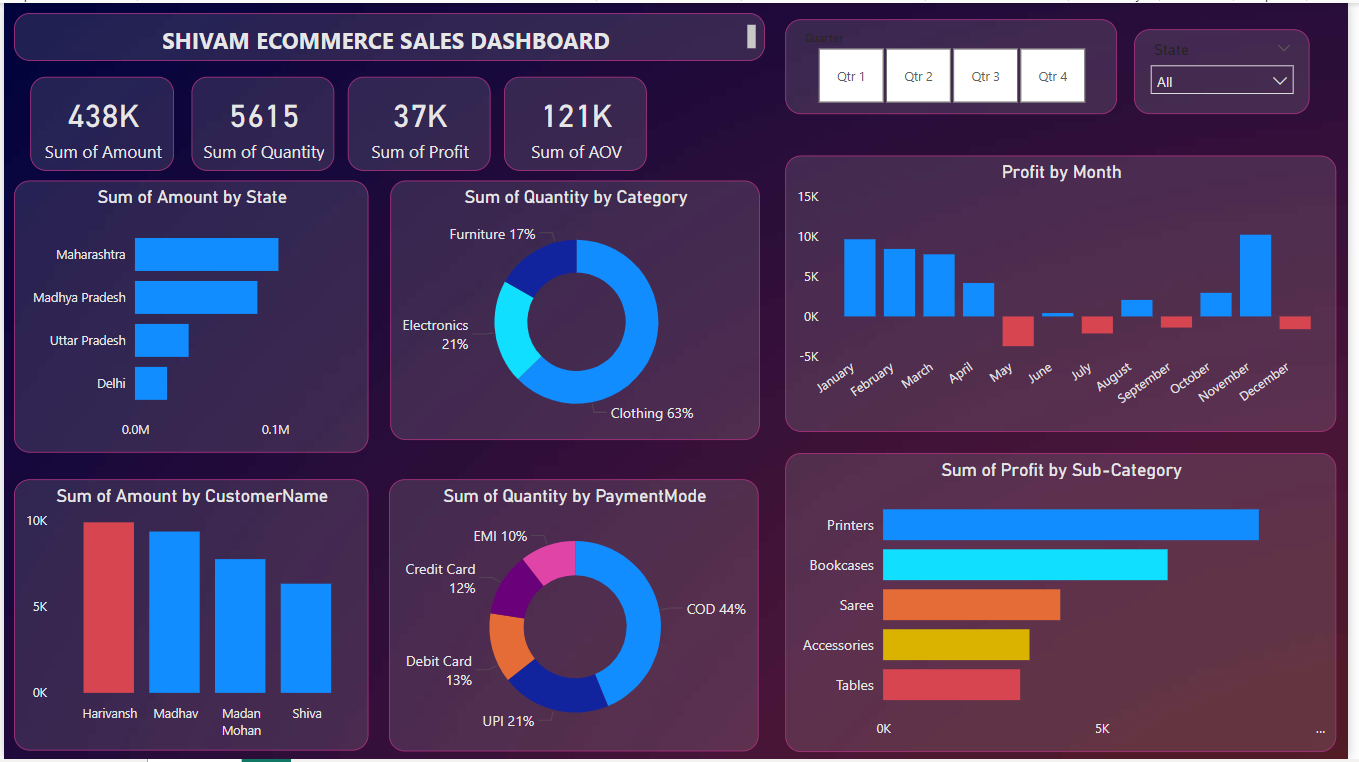

The page's visual inventory and layout, read from the dashboard file:
{"tool":"powerbi","page":{"name":"Page 1","canvas":[1280,720],"ordinal":0},"visuals":[{"type":"textbox","box":[9.5,9.5,715.2,45.2],"z":0},{"type":"columnChart","title":" Profit by Month","fields":{"Y":["Details.Profit"],"Category":["Orders.Order Date.Variation.Date Hierarchy.Month"]},"box":[743.8,145.2,524.8,263],"z":1000},{"type":"barChart","fields":{"Category":["Details.Sub-Category"],"Y":["Details.Profit"]},"box":[743.8,428.4,524.8,284.4],"z":2000},{"type":"donutChart","fields":{"Category":["Details.Category"],"Y":["Details.Quantity"]},"box":[367.7,169,352.3,247.5],"z":3000},{"type":"donutChart","fields":{"Y":["Details.Quantity"],"Category":["Details.PaymentMode"]},"box":[366.5,453.4,352.3,259.4],"z":4000},{"type":"card","fields":{"Values":["Details.Amount"]},"box":[25,70.2,136.9,89.3],"z":5000},{"type":"card","fields":{"Values":["Details.Quantity"]},"box":[178.5,70.2,135.7,89.3],"z":6000},{"type":"card","fields":{"Values":["Details.Profit"]},"box":[327.3,70.2,135.7,89.3],"z":7000},{"type":"card","fields":{"Values":["Details.AOV"]},"box":[476,70.2,135.7,89.3],"z":8000},{"type":"barChart","fields":{"Y":["Details.Amount"],"Category":["Orders.State"]},"box":[9.5,169,338,259.4],"z":9000},{"type":"columnChart","fields":{"Category":["Orders.CustomerName"],"Y":["Details.Amount"]},"box":[9.5,453.4,338,258.2],"z":10000},{"type":"slicer","fields":{"Values":["Orders.Order Date.Variation.Date Hierarchy.Quarter"]},"box":[743.7,15.1,315.6,90.6],"z":11000},{"type":"slicer","fields":{"Values":["Orders.State"]},"box":[1075.8,24.7,167.4,81],"z":12000}]}

Visuals, with their boxes in screenshot pixels (x1, y1, x2, y2), scaled from the page's 1280x720 canvas onto the 1359x762 screenshot:
textbox: [10, 10, 769, 58]
" Profit by Month" columnChart: [790, 154, 1347, 432]
barChart - Details.Sub-Category x Details.Profit: [790, 453, 1347, 754]
donutChart - Details.Category x Details.Quantity: [390, 179, 764, 441]
donutChart - Details.Quantity x Details.PaymentMode: [389, 480, 763, 754]
card - Details.Amount: [27, 74, 172, 169]
card - Details.Quantity: [190, 74, 334, 169]
card - Details.Profit: [348, 74, 492, 169]
card - Details.AOV: [505, 74, 649, 169]
barChart - Details.Amount x Orders.State: [10, 179, 369, 453]
columnChart - Orders.CustomerName x Details.Amount: [10, 480, 369, 753]
slicer - Orders.Order Date.Variation.Date Hierarchy.Quarter: [790, 16, 1125, 112]
slicer - Orders.State: [1142, 26, 1320, 112]
